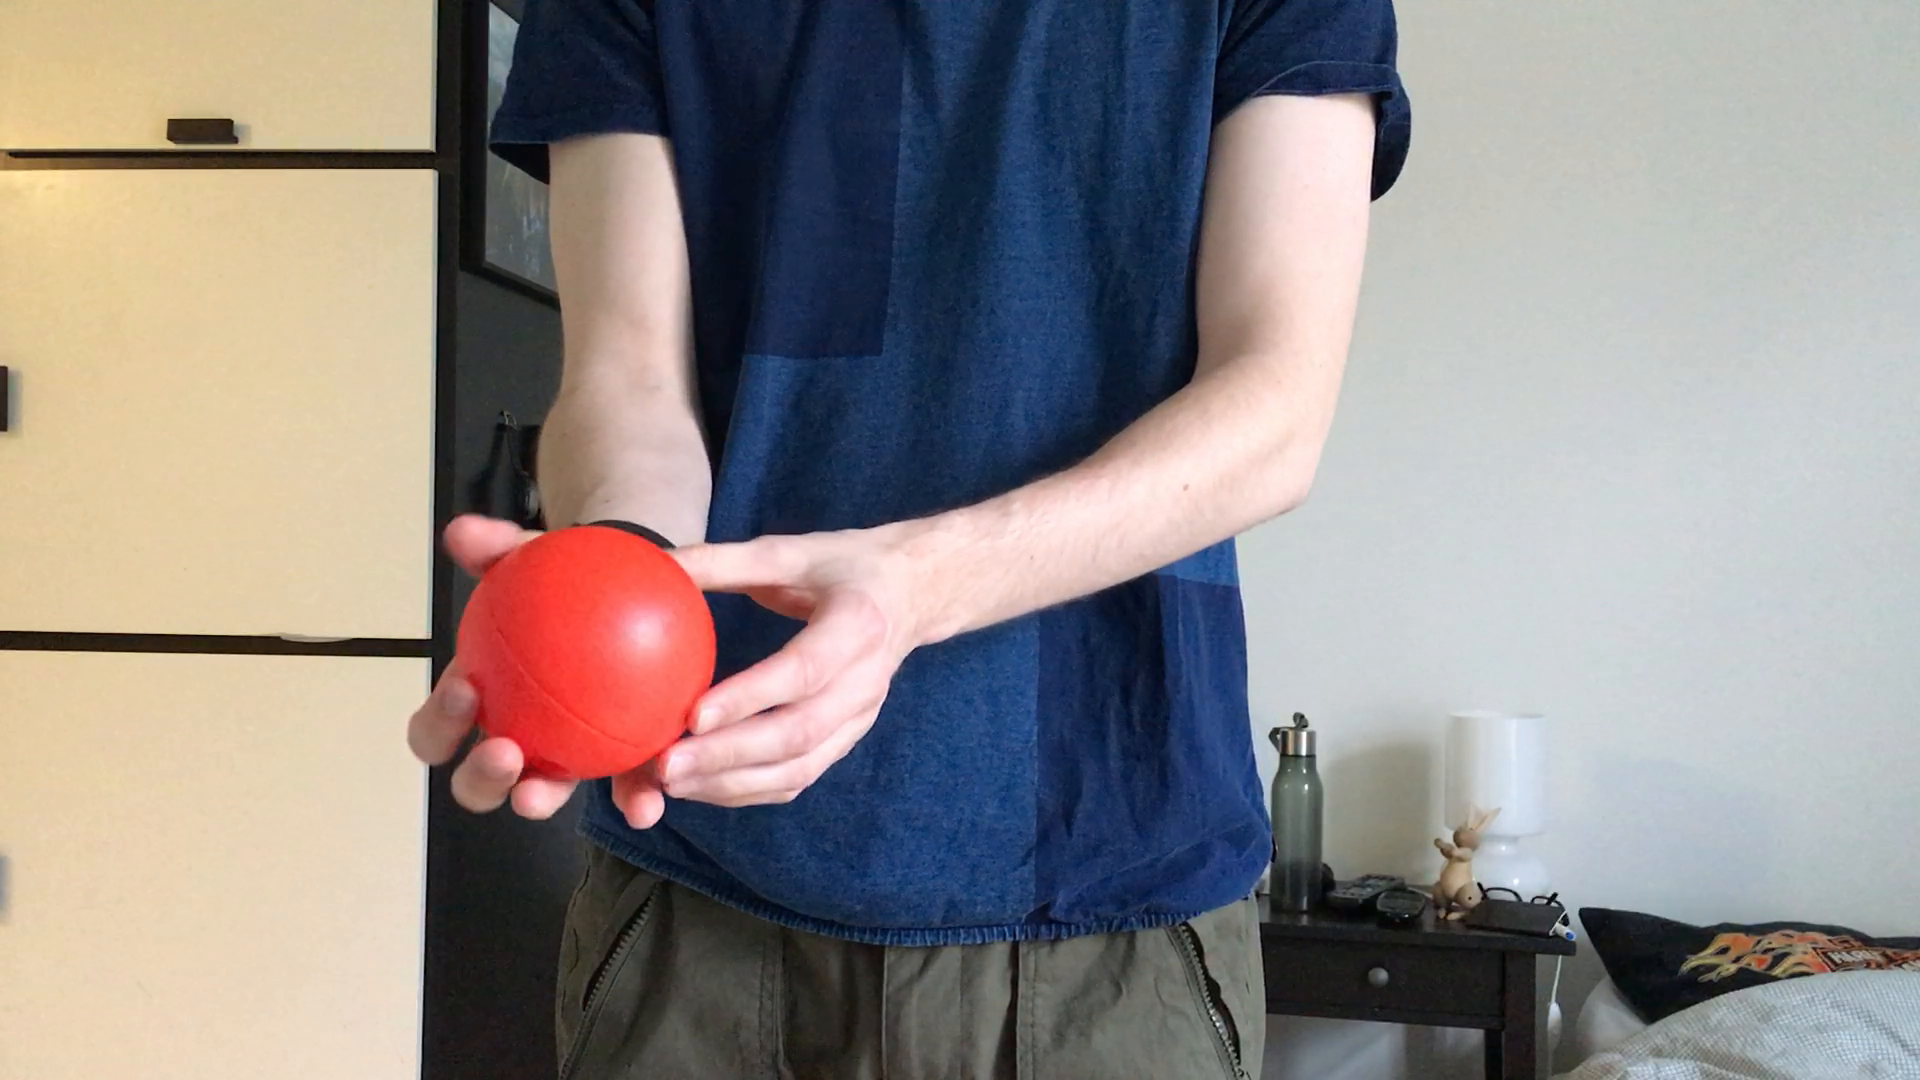Ball: (459, 525, 717, 790)
